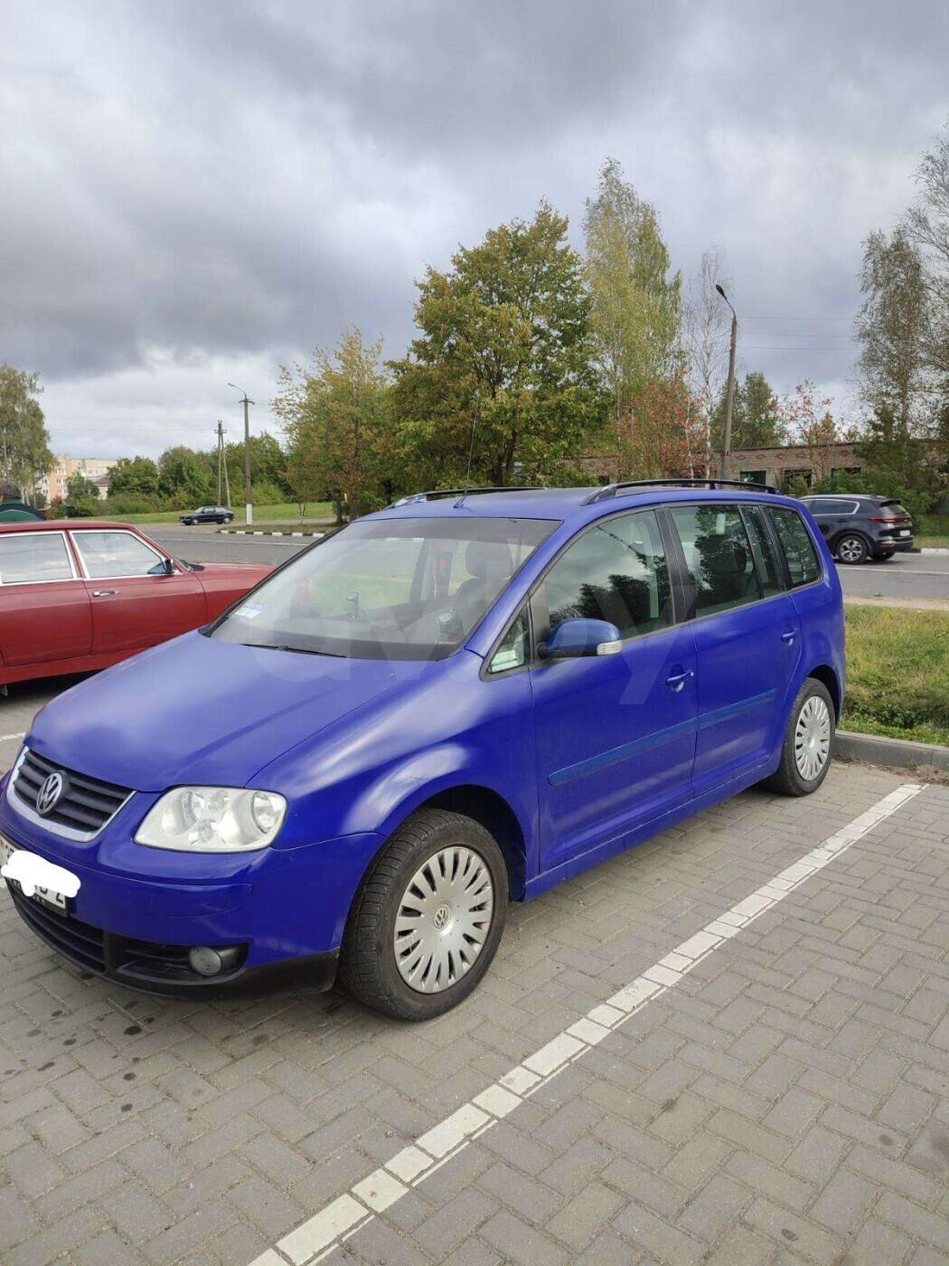Touran_2003-2006: (0, 483, 850, 1029)
